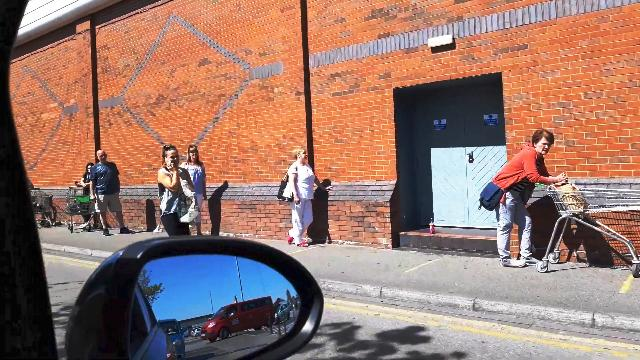berdiri: (483, 118, 567, 274), (278, 150, 320, 256), (85, 143, 128, 243)
